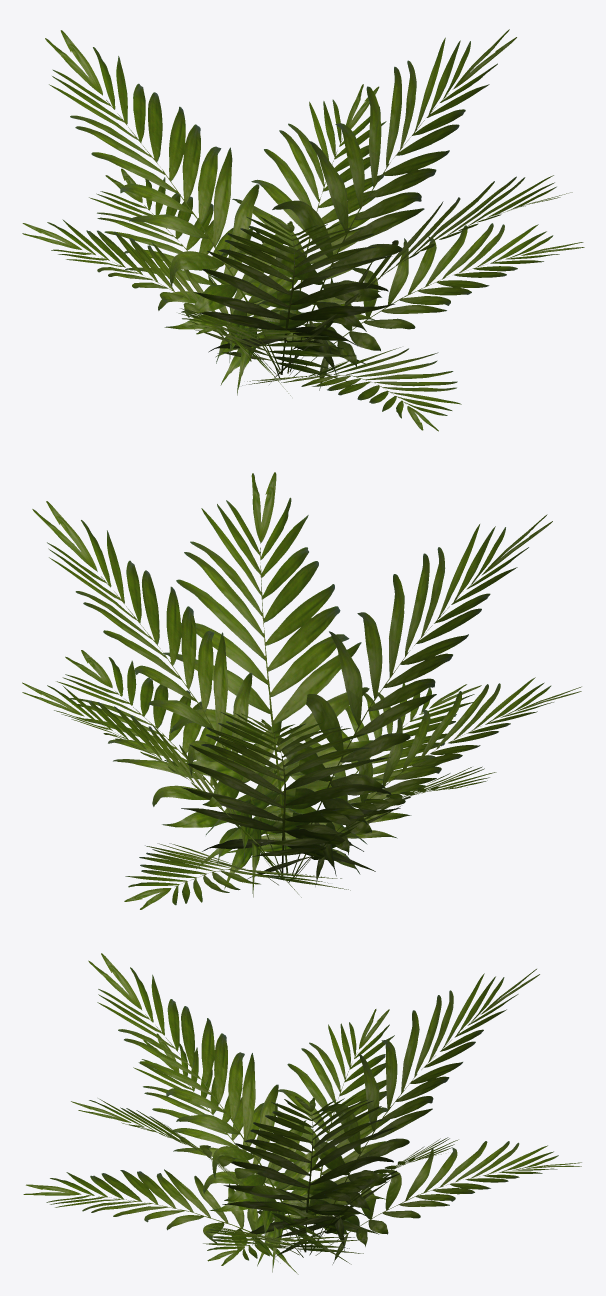
File: plant_02.fbx
The picture shows the model from 3 angles, top to bottom: view 1: azimuth 30°, elevation 25°; view 2: azimuth 150°, elevation 25°; view 3: azimuth 270°, elevation 25°; orthographic projection. The views are drawn at different scales.
Parts seen in each view (by area): view 1: plant_02; view 2: plant_02; view 3: plant_02.
Boxes of the visible parts, box(x1,y1,x2,y2) form: plant_02: box(22, 29, 584, 431); plant_02: box(22, 472, 581, 909); plant_02: box(23, 953, 581, 1274).
Size of the model in its own units: 331 by 192 by 377.
